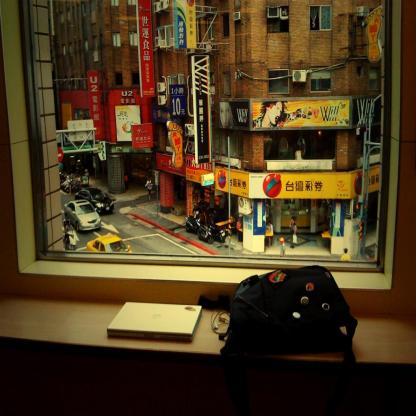board: (107, 302, 202, 341)
